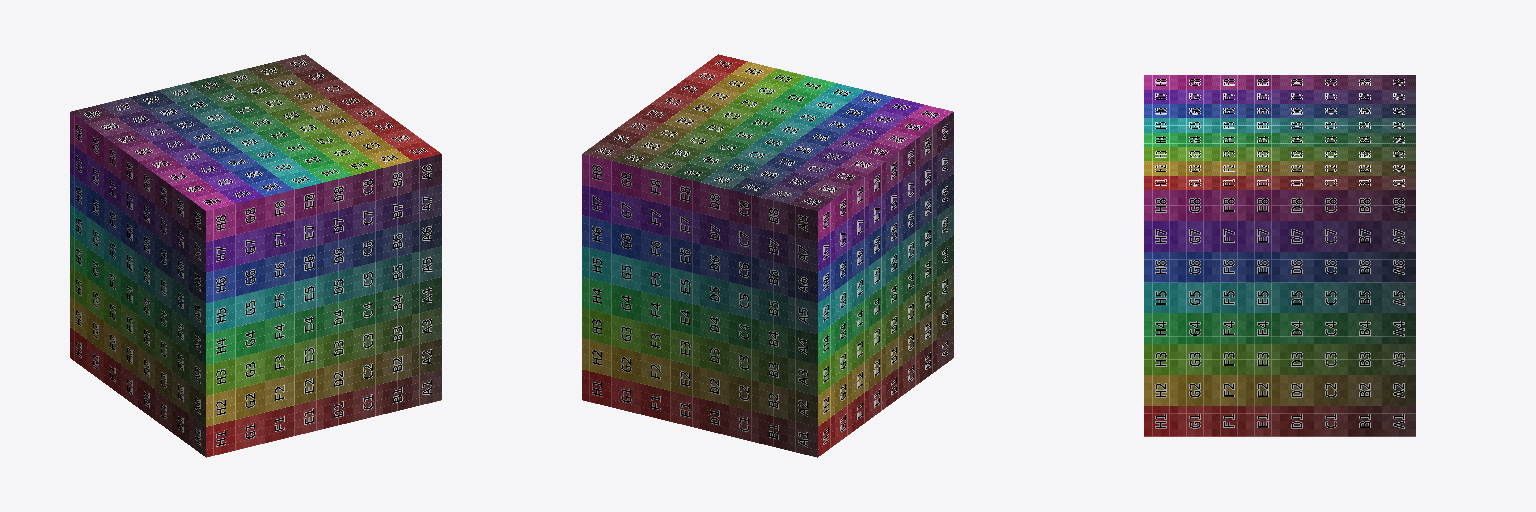
3 renders of one model, left to right at view 1: azimuth 30°, elevation 25°; view 2: azimuth 150°, elevation 25°; view 3: azimuth 270°, elevation 25°, orthographic.
Parts seen in each view (by area): view 1: Cube_Cube.001; view 2: Cube_Cube.001; view 3: Cube_Cube.001.
Part boxes in pixels (x1,y1,x2,y2): Cube_Cube.001: (70,54,441,457); Cube_Cube.001: (582,54,953,457); Cube_Cube.001: (1144,75,1415,436).
Size of the model in its own units: 1.57 by 1.57 by 1.57.
1 materials, 1 textured.